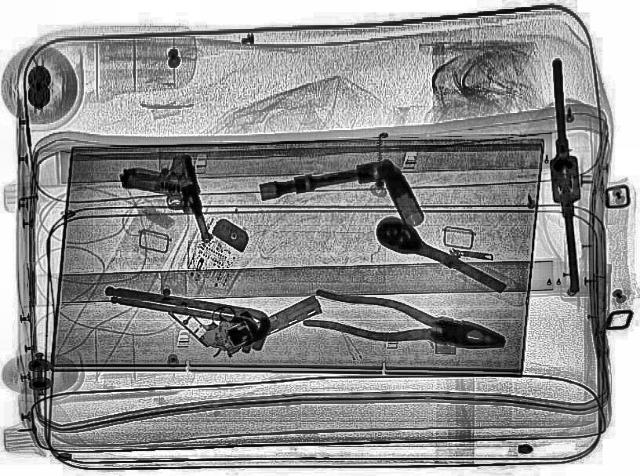Gun: (164, 250, 336, 364), (112, 152, 216, 252)
Pliers: (300, 285, 512, 361)
